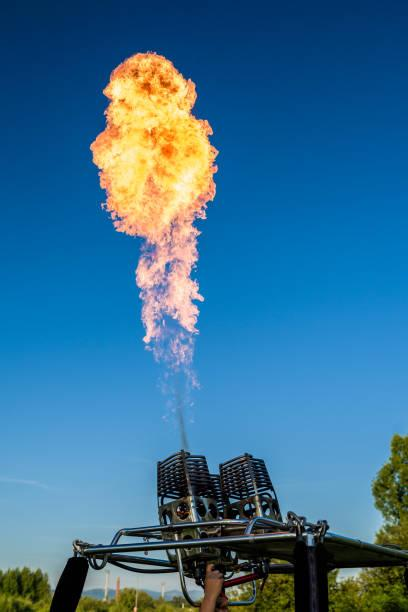Fire: (89, 35, 217, 398)
